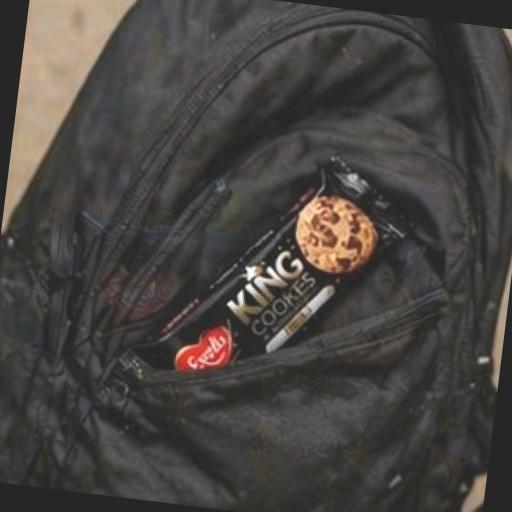king-cooking: (128, 60, 504, 466)
